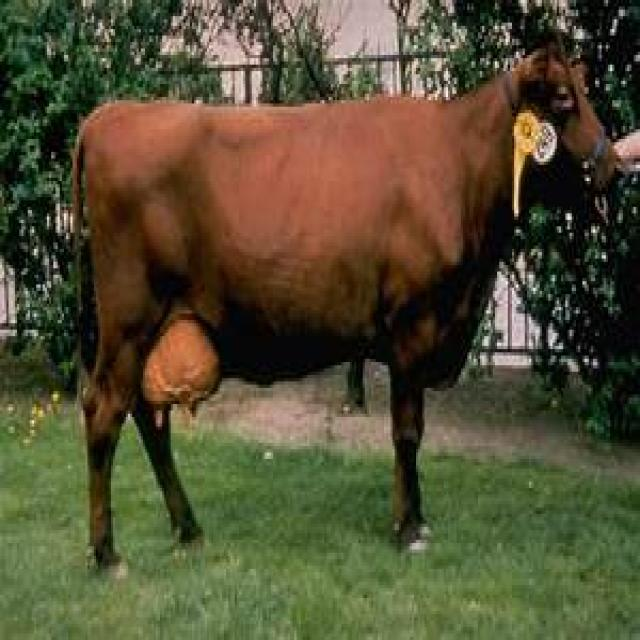animal: (68, 39, 621, 582)
